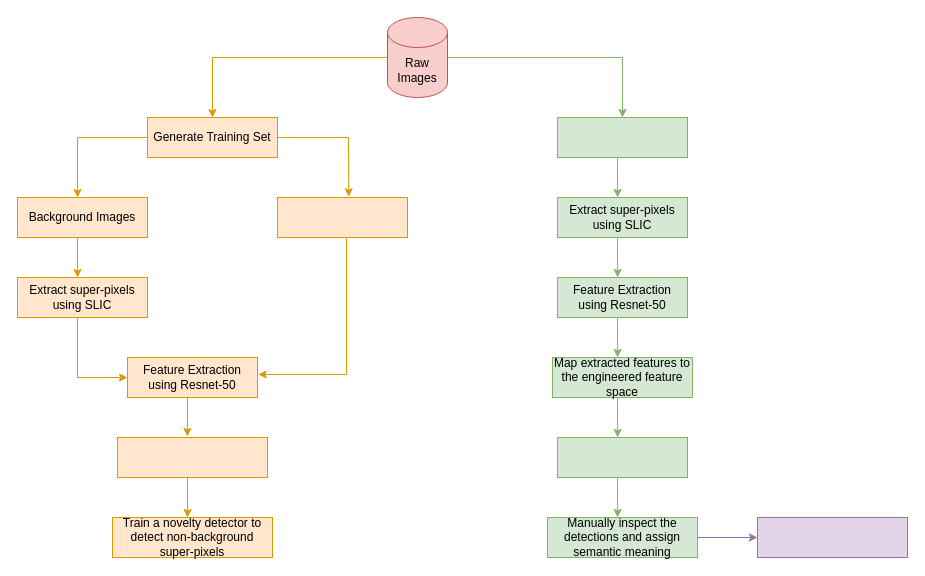
This 925x576 diagram has some shape labels left out. The shapes that lost their labels are listed below. From the top down, each one's centre as x and y in pixels, then its label:
At (x=622, y=137): "Test Images".
At (x=342, y=217): "Crop out support set patches in xnview".
At (x=192, y=457): "Feature space engineering using supervised PCA".
At (x=622, y=457): "Detect non-background super-pixels".
At (x=832, y=537): "Map out the spatial distribution of detected fauna".
